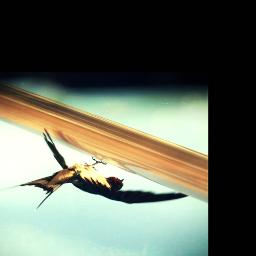Swallow: (0, 128, 191, 211)
